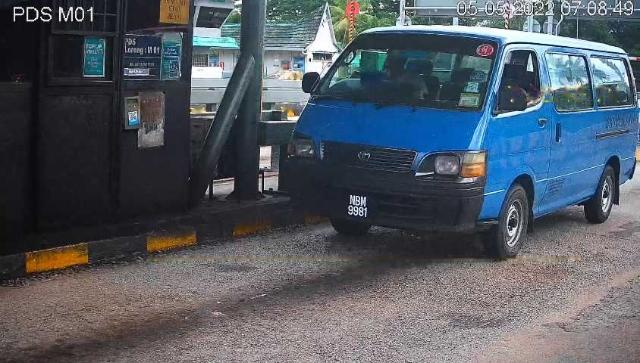License_Plate: (344, 192, 374, 223)
van: (286, 27, 640, 260)
